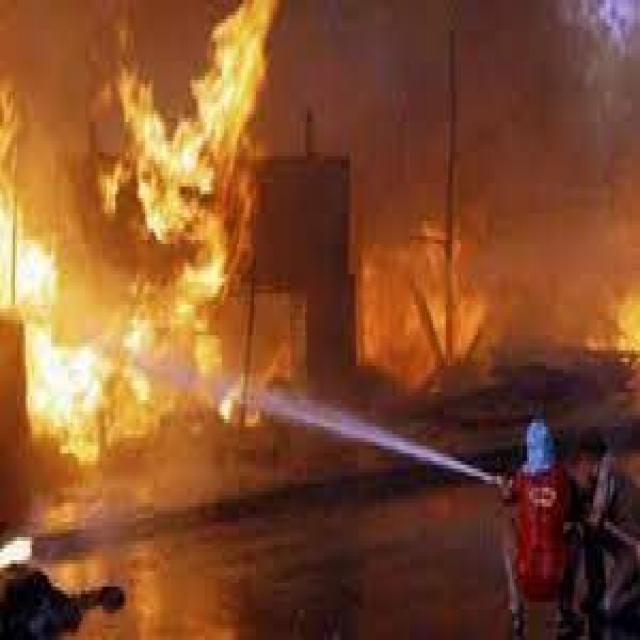fire: (2, 4, 277, 465), (352, 214, 489, 392)
